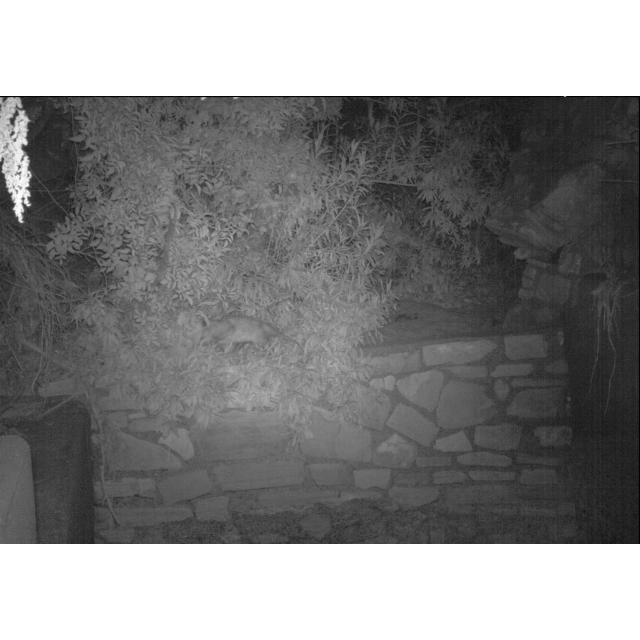animals: (198, 311, 294, 353)
